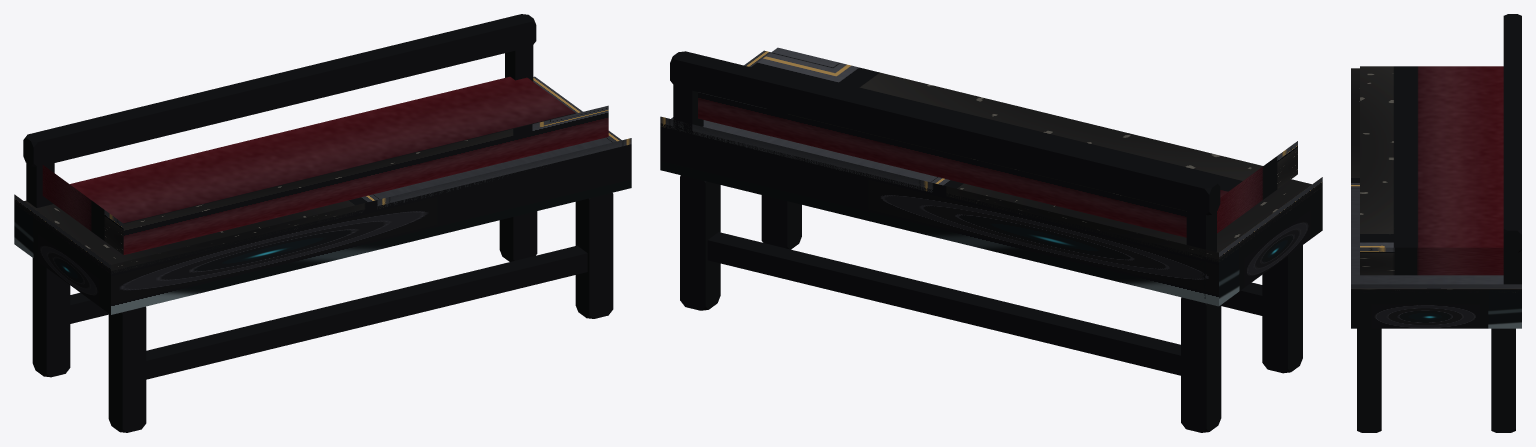
File: room_l3_img2_specimen_bench.glb
The picture shows the model from 3 angles, left to right: view 1: azimuth 30°, elevation 25°; view 2: azimuth 150°, elevation 25°; view 3: azimuth 270°, elevation 25°; orthographic projection. The views are drawn at different scales.
Visible parts, largest first — view 1: velvet_cushion, seat_frame, back_rail, stretcher_front, brass_seam, leg_1, leg_0, leg_3, leg_2, back_post_r, back_post_l, stretcher_back; view 2: seat_frame, velvet_cushion, back_rail, stretcher_back, brass_seam, leg_3, leg_2, leg_1, leg_0, back_post_r, back_post_l, stretcher_front; view 3: velvet_cushion, seat_frame, back_rail, brass_seam, leg_0, leg_2, back_post_r.
Part boxes in pixels (x1,y1,x2,y2): velvet_cushion: (42,76,608,254); seat_frame: (14,144,631,314); back_rail: (23,14,536,166); stretcher_front: (146,245,587,379); brass_seam: (14,76,631,273); leg_1: (108,306,146,432); leg_0: (575,192,613,318); leg_3: (32,258,70,377); leg_2: (499,211,537,261); back_post_r: (505,44,533,81); back_post_l: (26,158,54,207); stretcher_back: (70,292,108,323); seat_frame: (660,123,1322,306); velvet_cushion: (698,47,1297,237); back_rail: (670,51,1220,215); stretcher_back: (707,232,1180,375); brass_seam: (660,50,1322,262); leg_3: (1181,297,1221,432); leg_2: (680,175,720,310); leg_1: (1262,245,1302,373); leg_0: (761,195,801,249); back_post_r: (673,80,703,175); back_post_l: (1186,209,1216,298); stretcher_front: (1221,282,1262,315); velvet_cushion: (1360,66,1503,275); seat_frame: (1351,290,1521,328); back_rail: (1503,14,1521,252); brass_seam: (1351,68,1521,292); leg_0: (1357,328,1381,432); leg_2: (1491,328,1515,432); back_post_r: (1503,250,1521,284).
Size of the model in its own units: 1.74 by 0.74 by 0.56.
3 materials, 3 textured.
